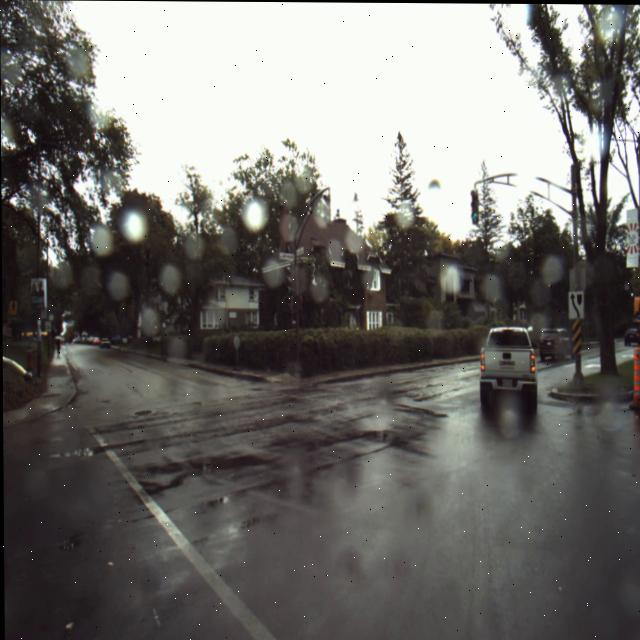car: (479, 324, 535, 407), (539, 328, 572, 364), (622, 327, 640, 347), (298, 290, 305, 312), (99, 338, 110, 347)
trafficLight: (283, 264, 294, 313)
trafficLight-Green: (470, 187, 479, 225)
